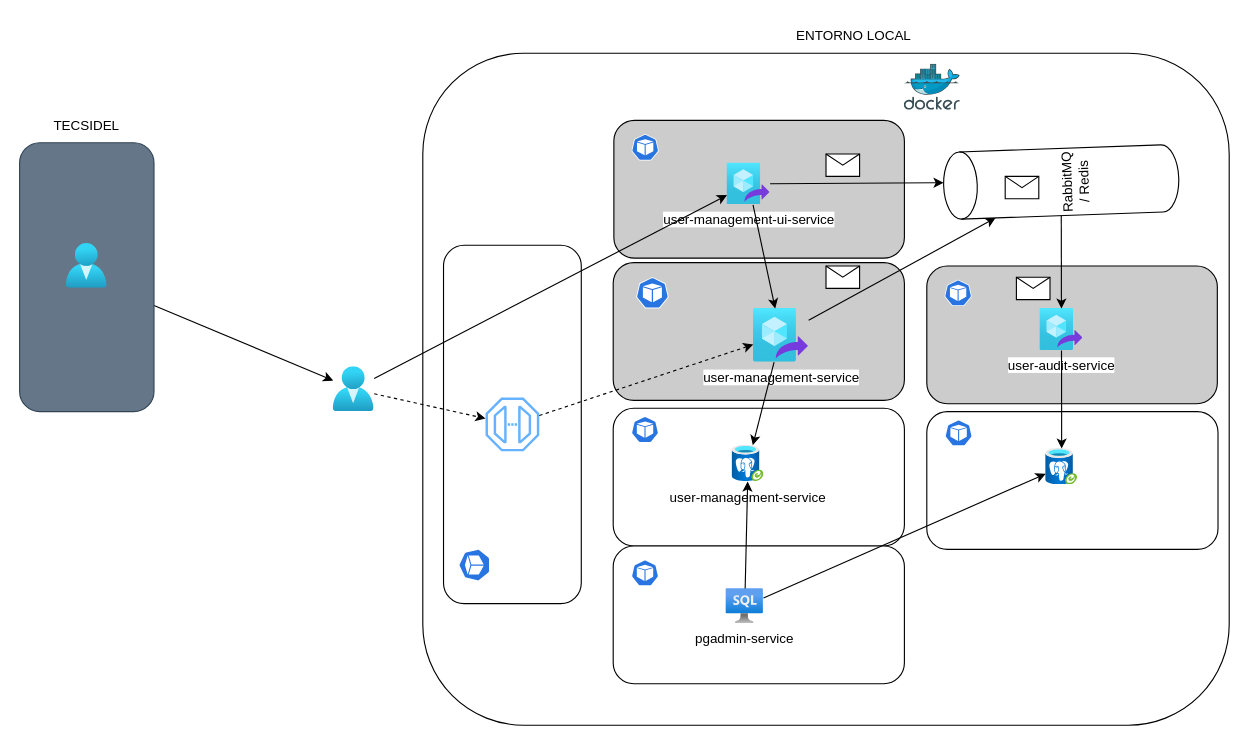
Image size: 1249x745. Some labels were removed from this diagram. Here are the shapes that lost their labels. From the top down, the centre of each, then its label:
At pixel 86 265: "Desarrolladores".
At pixel 353 388: "Usuarios".
At pixel 1061 466: "user-audit-db-service".
